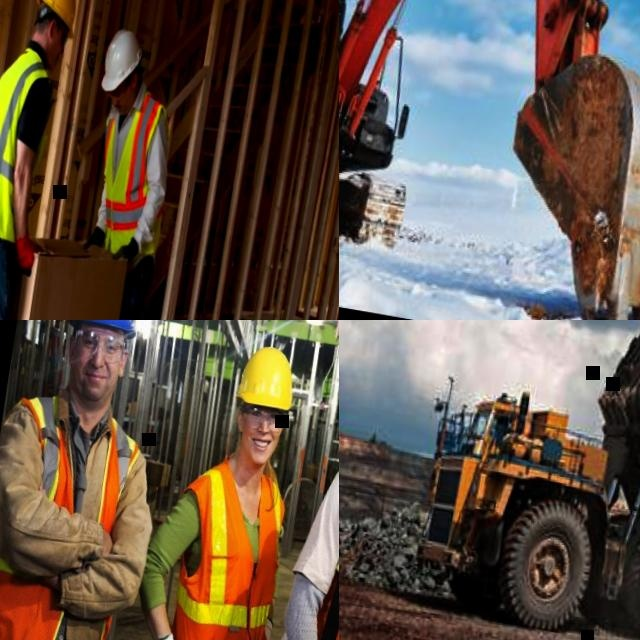Hardhat: (235, 343, 301, 413), (100, 25, 144, 94), (33, 0, 81, 34), (68, 320, 145, 338)
NO-Mask: (69, 365, 117, 407), (242, 427, 278, 465), (46, 47, 62, 69), (117, 94, 129, 115)
Person: (100, 327, 322, 640), (0, 320, 195, 640), (41, 20, 201, 320), (246, 320, 339, 640), (0, 0, 85, 320)
Safety Vest: (0, 389, 150, 640), (146, 451, 303, 640), (85, 83, 183, 272), (259, 435, 339, 640), (0, 40, 57, 241)
machinery: (339, 0, 640, 320), (402, 320, 640, 640)
